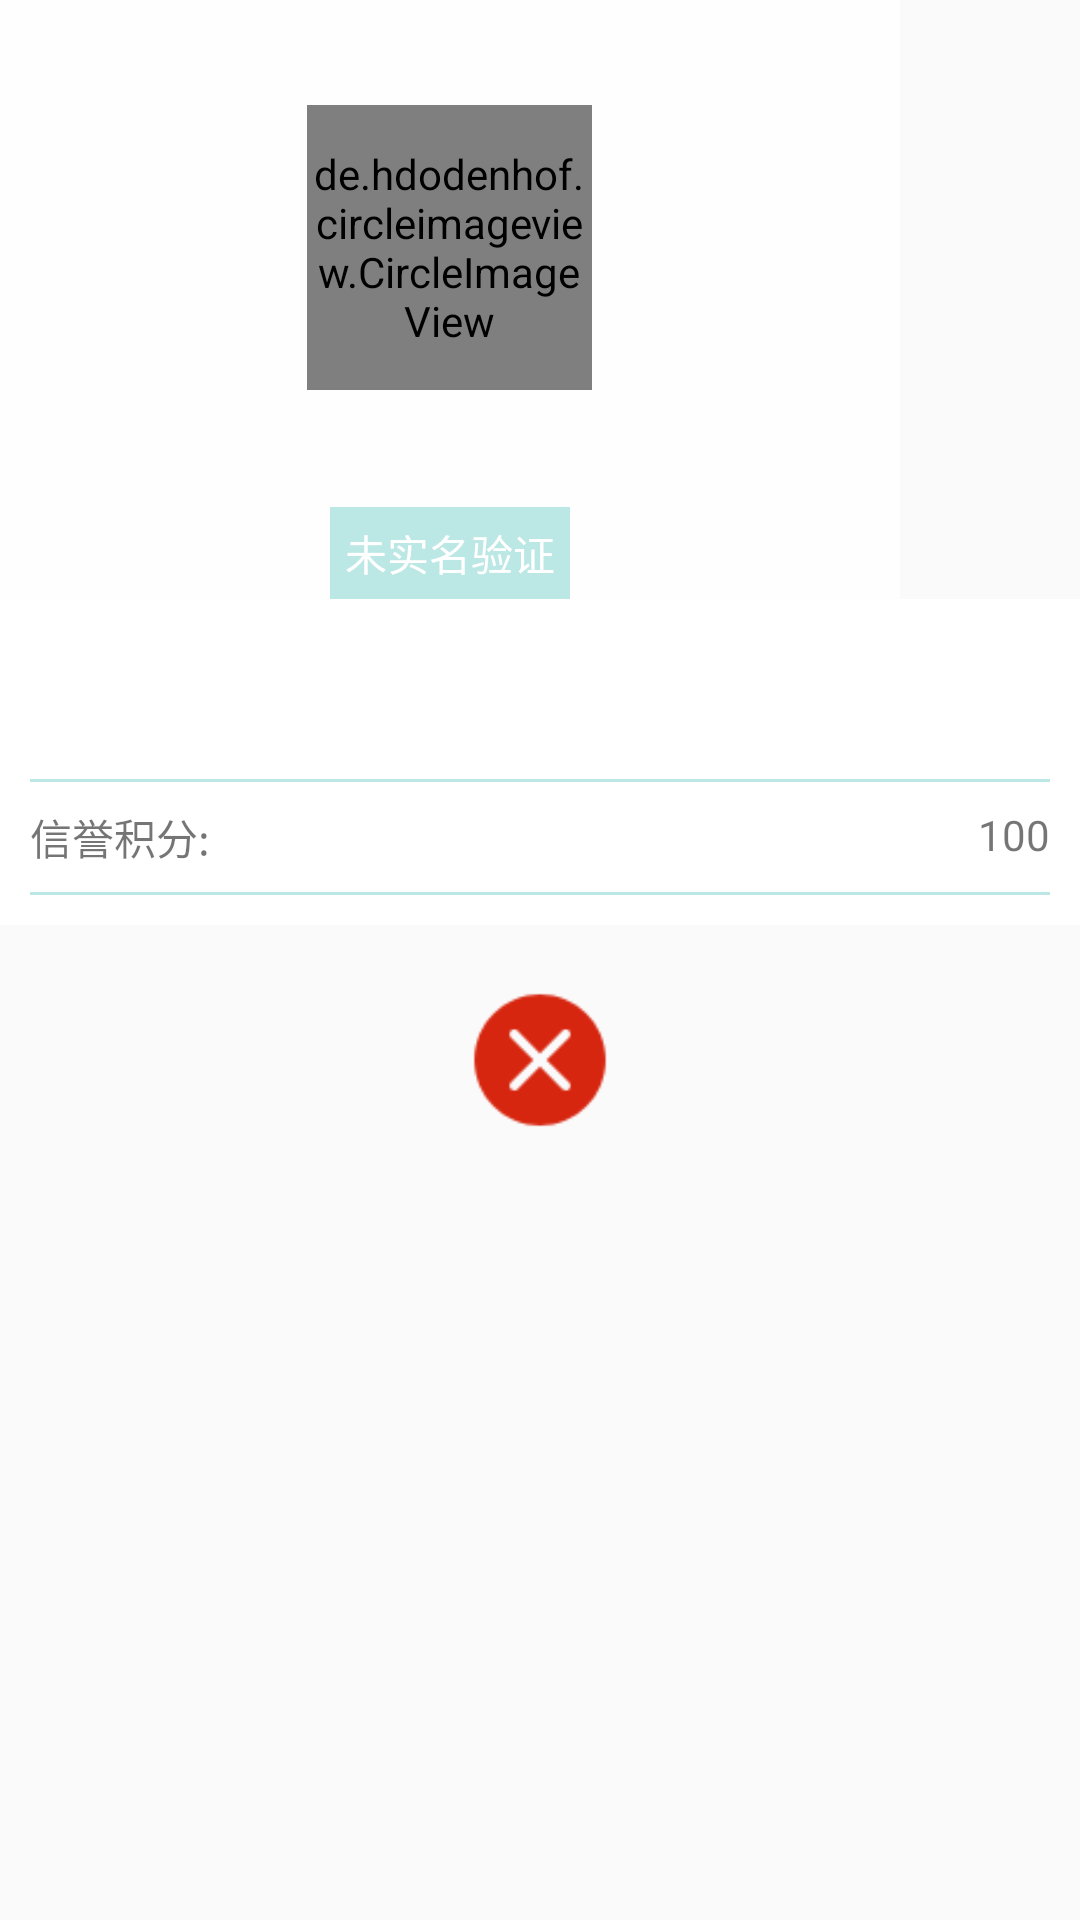

Where icons sit on this 1080px×1920px app screen, as bbox=(x1, y1, x2, y2):
error: bbox=(473, 993, 607, 1127)
